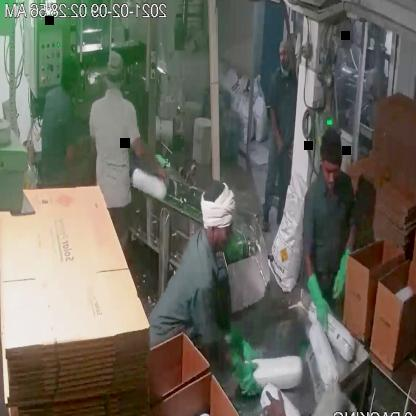glove: (220, 353, 269, 409), (324, 242, 360, 303), (306, 266, 336, 329)
no_glove: (132, 136, 174, 178), (263, 379, 301, 416), (264, 105, 289, 154)
